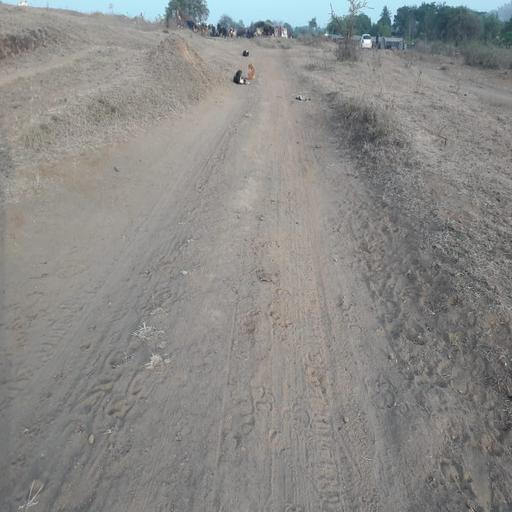vehicle_track: (0, 93, 247, 512), (216, 102, 422, 512)
